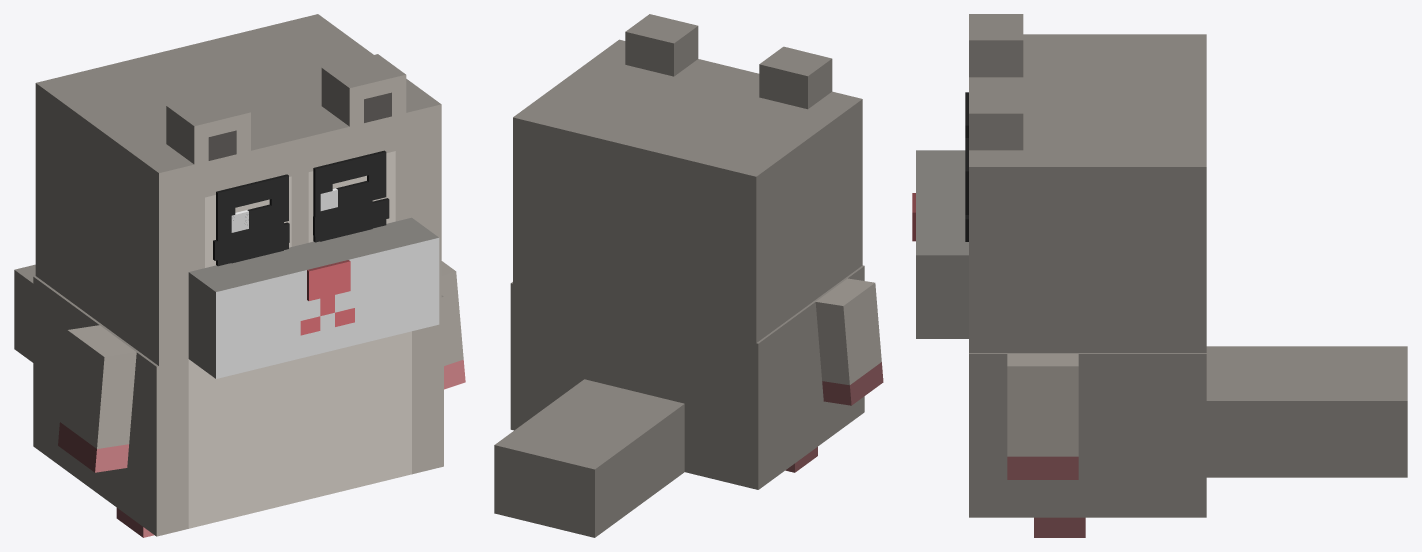
The picture shows the model from 3 angles, left to right: view 1: azimuth 30°, elevation 25°; view 2: azimuth 150°, elevation 25°; view 3: azimuth 270°, elevation 25°; orthographic projection. The views are drawn at different scales.
Visible parts, largest first — view 1: Ch_184_Head, Ch_184, Ch_184_Arm_L, Ch_184_Eye_01, Ch_184_Eye_03_R, Ch_184_Eye_03_L, Ch_184_Arm_R, Ch_184_Tail, Ch_184_Eye_02; view 2: Ch_184_Head, Ch_184, Ch_184_Tail, Ch_184_Arm_L; view 3: Ch_184_Head, Ch_184, Ch_184_Tail, Ch_184_Arm_R, Ch_184_Leg_R.
Boxes of the visible parts, x1,y1,x2,y2 form: Ch_184_Head: (35,14,441,378); Ch_184: (33,276,443,536); Ch_184_Arm_L: (58,325,136,472); Ch_184_Eye_01: (231,181,372,263); Ch_184_Eye_03_R: (313,150,386,242); Ch_184_Eye_03_L: (216,174,288,266); Ch_184_Arm_R: (441,261,465,389); Ch_184_Tail: (14,264,35,362); Ch_184_Eye_02: (213,198,389,260); Ch_184_Head: (513,14,862,342); Ch_184: (510,265,864,489); Ch_184_Tail: (494,379,684,537); Ch_184_Arm_L: (815,278,883,405); Ch_184_Head: (912,14,1206,352); Ch_184: (969,353,1206,517); Ch_184_Tail: (1206,346,1407,477); Ch_184_Arm_R: (1007,354,1078,479); Ch_184_Leg_R: (1034,517,1085,537).
Size of the model in its own units: 8.7 by 9.69 by 10.45.
